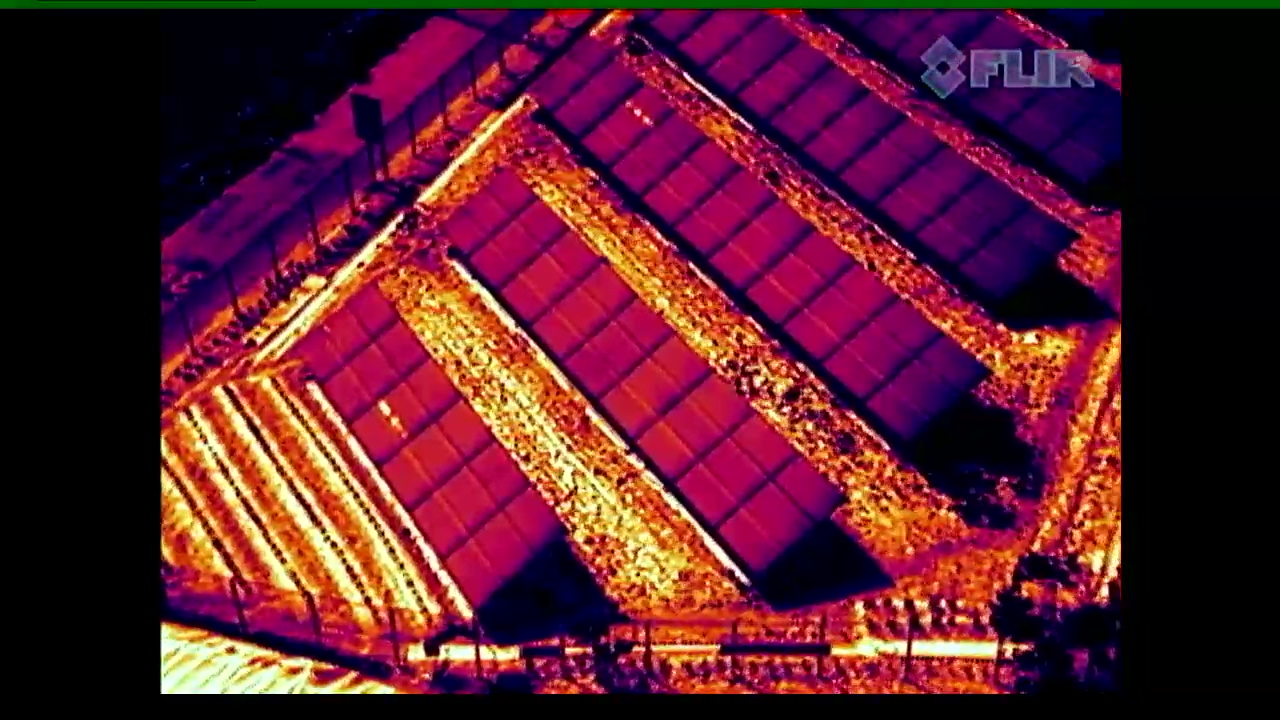hotspot: (345, 356, 461, 462), (577, 81, 673, 166)
